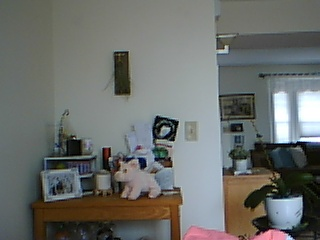piggy: (113, 158, 163, 200)
